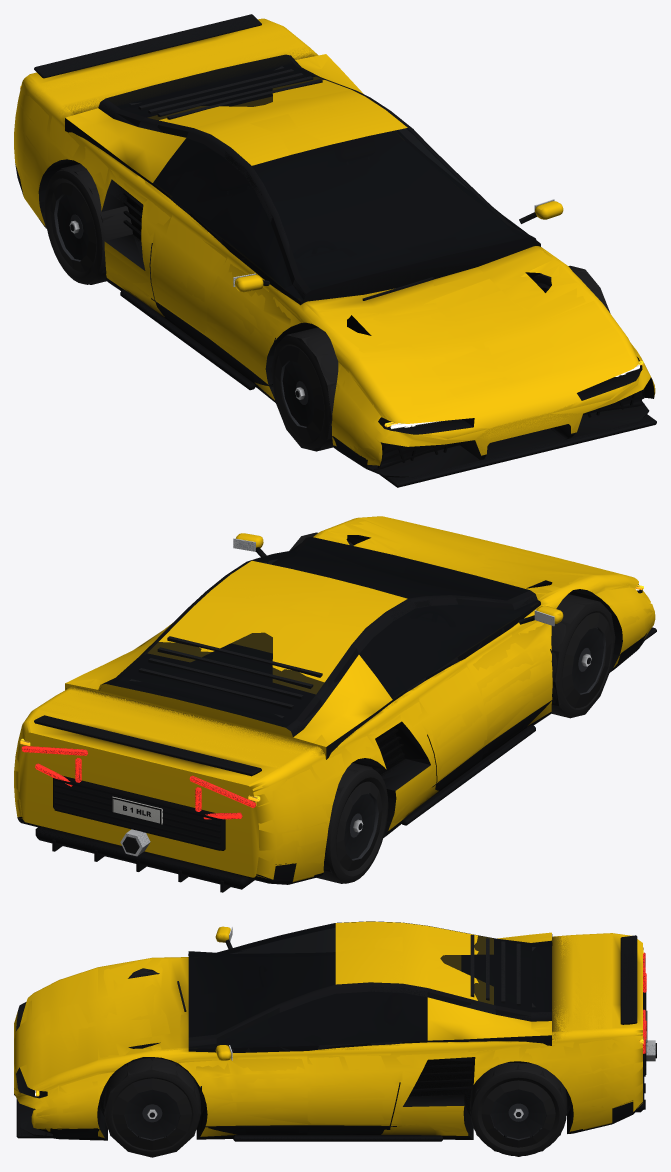
Rendered from halilintar.glb.
3 views of the same model, one above another, from view 1: azimuth 30°, elevation 25°; view 2: azimuth 150°, elevation 25°; view 3: azimuth 270°, elevation 25° (orthographic). The views are drawn at different scales.
Parts seen in each view (by area): view 1: body, lod1_glass, lod1_paint, lod1_rest, wheel_rr, wheel_fr; view 2: body, lod1_paint, lod1_glass, lod1_rest, wheel_rr, wheel_fr; view 3: body, lod1_paint, lod1_glass, lod1_rest, wheel_rl, wheel_fl.
Part boxes in pixels (bbox=[...]): body: bbox=[14, 14, 656, 487]; lod1_glass: bbox=[107, 55, 539, 301]; lod1_paint: bbox=[14, 18, 655, 465]; lod1_rest: bbox=[15, 15, 656, 486]; wheel_rr: bbox=[44, 164, 132, 284]; wheel_fr: bbox=[272, 328, 338, 449]; body: bbox=[14, 516, 656, 892]; lod1_paint: bbox=[14, 516, 653, 879]; lod1_glass: bbox=[108, 537, 540, 726]; lod1_rest: bbox=[18, 532, 656, 891]; wheel_rr: bbox=[316, 762, 388, 883]; wheel_fr: bbox=[551, 594, 614, 716]; body: bbox=[14, 921, 656, 1141]; lod1_paint: bbox=[14, 926, 642, 1138]; lod1_glass: bbox=[188, 924, 551, 1048]; lod1_rest: bbox=[16, 926, 656, 1157]; wheel_rl: bbox=[470, 1062, 567, 1156]; wheel_fl: bbox=[103, 1058, 200, 1155].
Bounding box in the file's own units: 2.16 × 1.19 × 4.6.
